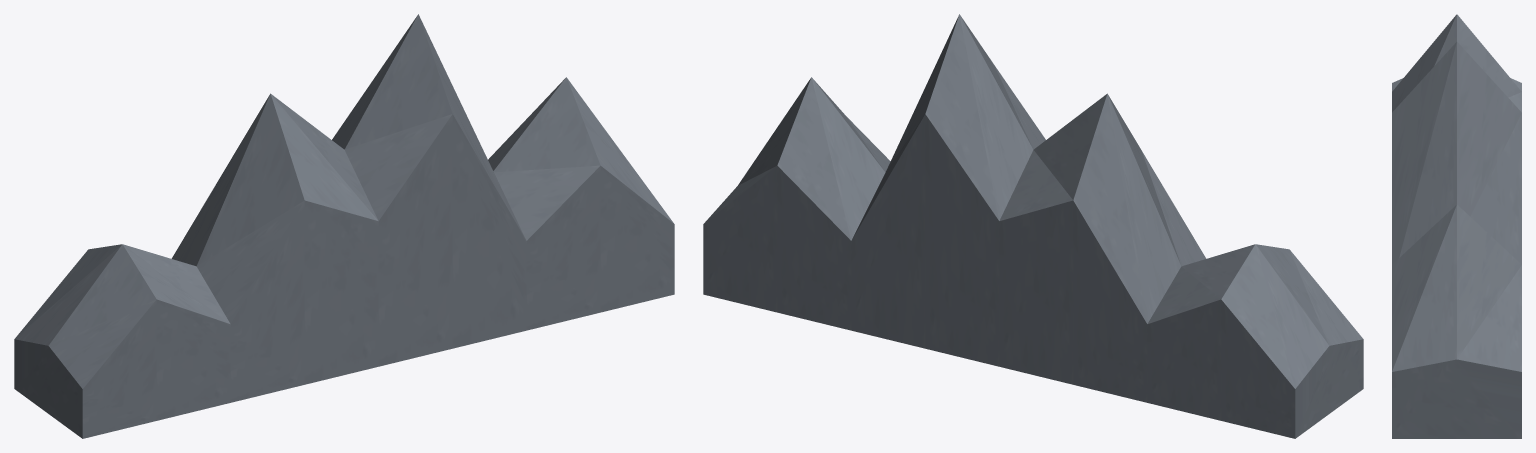
The model's file is boundary_ridge.glb.
3 views of the same model, side by side, from view 1: azimuth 30°, elevation 25°; view 2: azimuth 150°, elevation 25°; view 3: azimuth 270°, elevation 25° (orthographic). The views are drawn at different scales.
Parts seen in each view (by area): view 1: outdoor_boundary_ridge; view 2: outdoor_boundary_ridge; view 3: outdoor_boundary_ridge.
Part boxes in pixels (x1,y1,x2,y2): outdoor_boundary_ridge: [14, 14, 674, 438]; outdoor_boundary_ridge: [703, 14, 1363, 438]; outdoor_boundary_ridge: [1392, 14, 1521, 438].
Bounding box in the file's own units: 20 × 10 × 4.
Materials: 1 (1 with a texture image).
